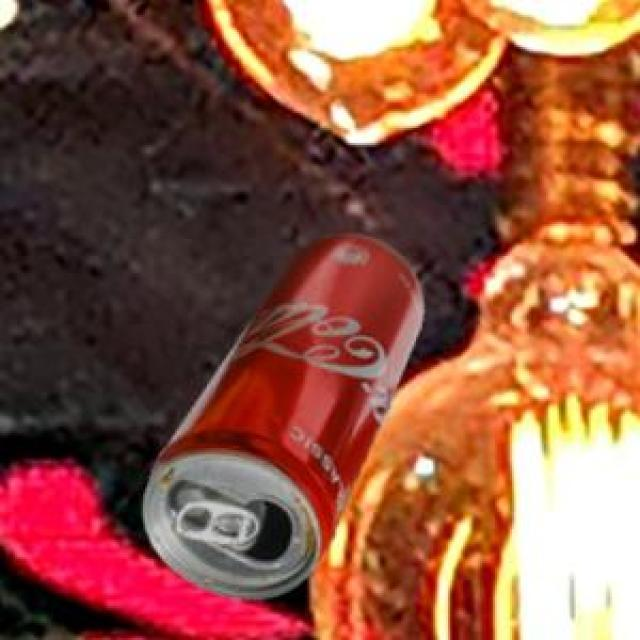Can: (142, 231, 419, 596)
